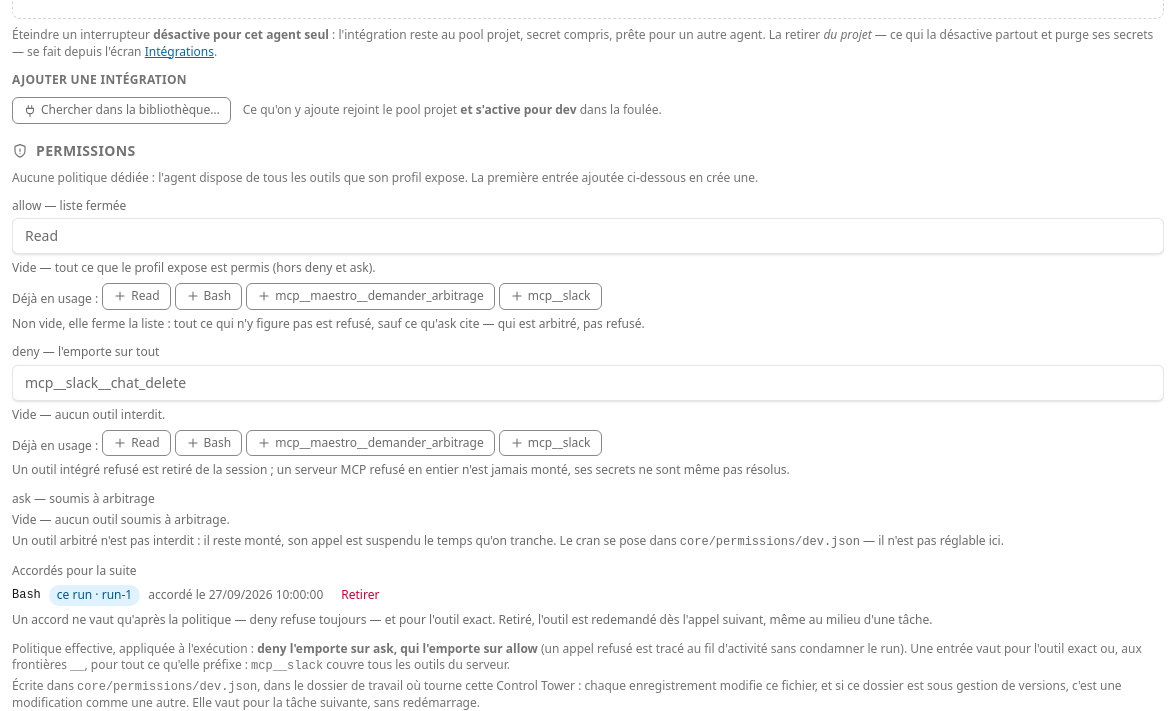
⑤ ce qui a été accordé pour la suite se voit et se retire (#1185) › garde la liste et nomme la cause quand le retrait est refusé
(page scrolled)
Step 1. Click the button named "Retirer l'accord Bash" → [360, 596], box [331,583,389,608]
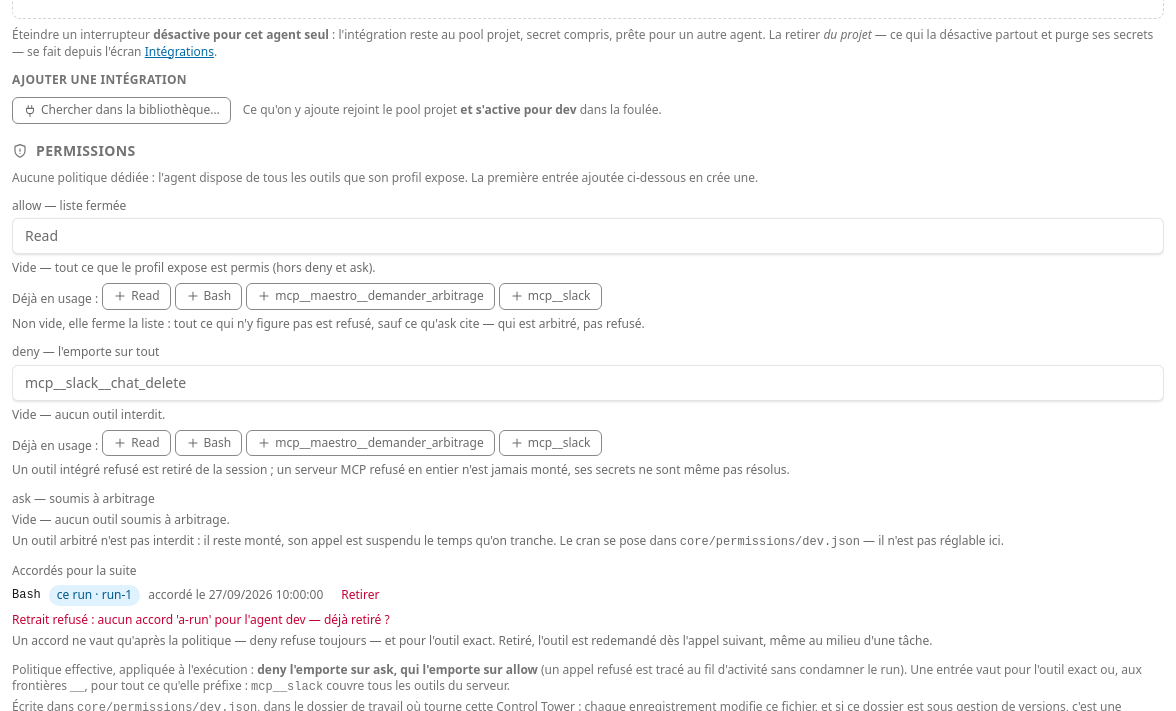
Expected: the text "Bash" is shown, [12,587,41,604]
Expected: the message reads "Retrait refusé : aucun accord 'a-run' pour l'agent dev — déjà retiré ?", [12,611,390,628]
